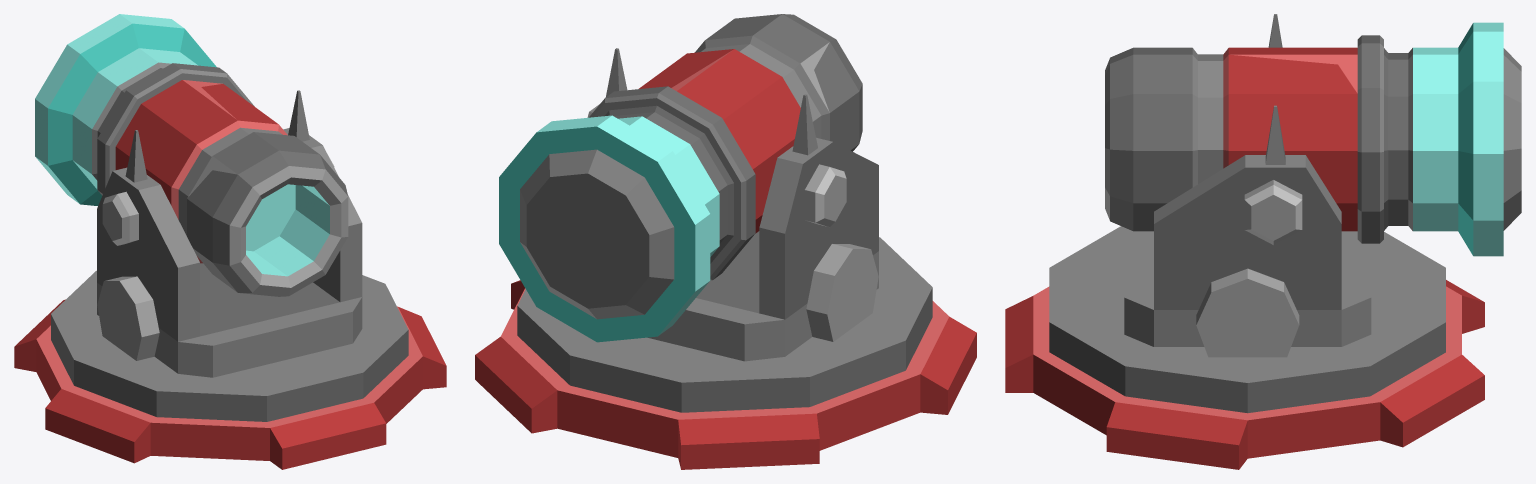
The model's file is tower_plasma_red_2.fbx.
3 renders of one model, left to right at view 1: azimuth 30°, elevation 25°; view 2: azimuth 150°, elevation 25°; view 3: azimuth 270°, elevation 25°, orthographic. The views are drawn at different scales.
Visible parts, largest first — view 1: top_plasma_red_2, tower_plasma_red_2; view 2: top_plasma_red_2, tower_plasma_red_2; view 3: top_plasma_red_2, tower_plasma_red_2.
Part boxes in pixels (box(x1,y1,x2,y2)): top_plasma_red_2: box(35, 14, 362, 377); tower_plasma_red_2: box(14, 270, 446, 469); top_plasma_red_2: box(499, 14, 878, 361); tower_plasma_red_2: box(475, 237, 976, 469); top_plasma_red_2: box(1105, 14, 1521, 357); tower_plasma_red_2: box(1005, 226, 1484, 469).
Size of the model in its own units: 159 by 115 by 162.
